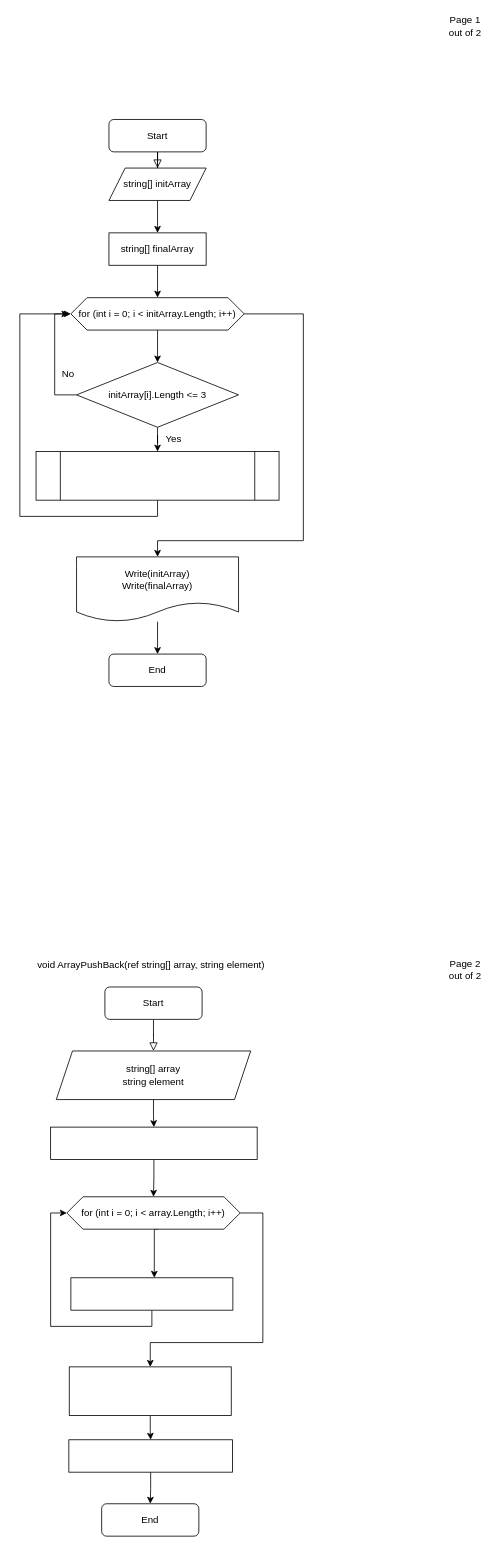
The diagram is 504 pixels wide and 1550 high, and some of its shapes have lost their labels. Each missing label, with the centre of its shape:
"array = temp" goes at point 150,1455.
"ArrayPushBack(finalArray, initArray[i])" goes at point 157,475.
"string[] temp = new string[array.Length + 1];" goes at point 153,1143.
"temp[i] = array[i]" goes at point 151,1293.
"temp[temp.Length - 1] = element;" goes at point 149,1390.
